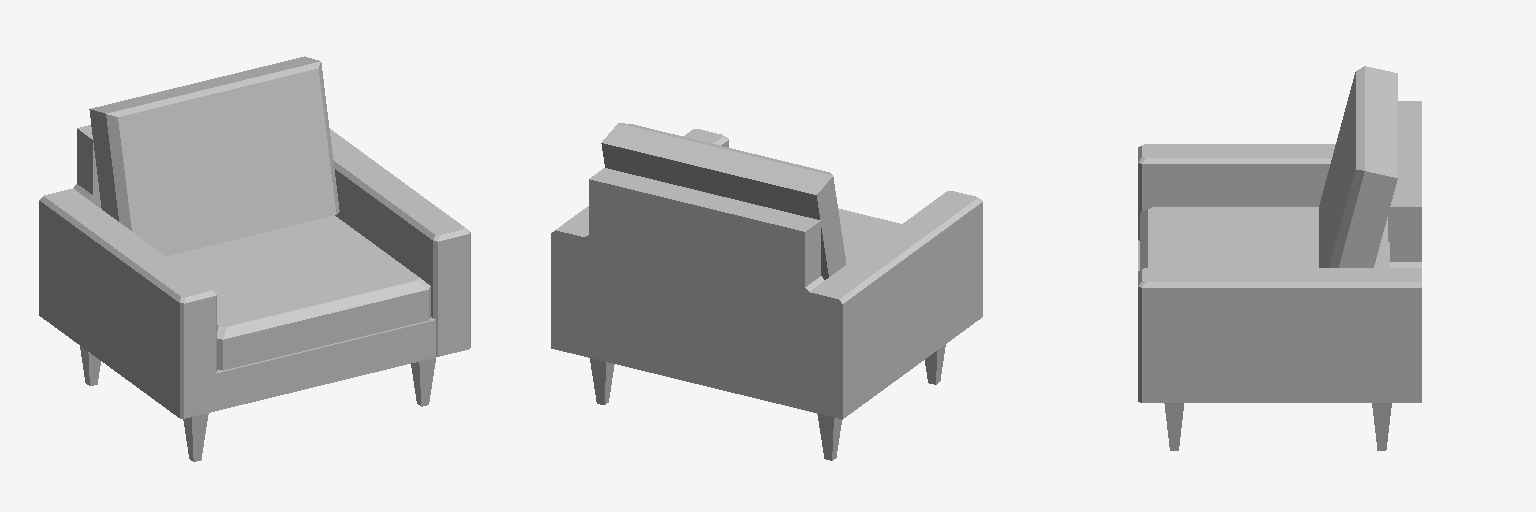
The model's file is SillonIndividual.obj.
3 renders of one model, left to right at view 1: azimuth 30°, elevation 25°; view 2: azimuth 150°, elevation 25°; view 3: azimuth 270°, elevation 25°, orthographic.
Visible parts, largest first — view 1: Armchair_Material.001; view 2: Armchair_Material.001; view 3: Armchair_Material.001.
Part boxes in pixels (bbox=[...]): Armchair_Material.001: bbox=[39, 56, 470, 461]; Armchair_Material.001: bbox=[551, 123, 982, 460]; Armchair_Material.001: bbox=[1138, 66, 1421, 450].
Bounding box in the file's own units: 1.33 × 1.2 × 1.12.